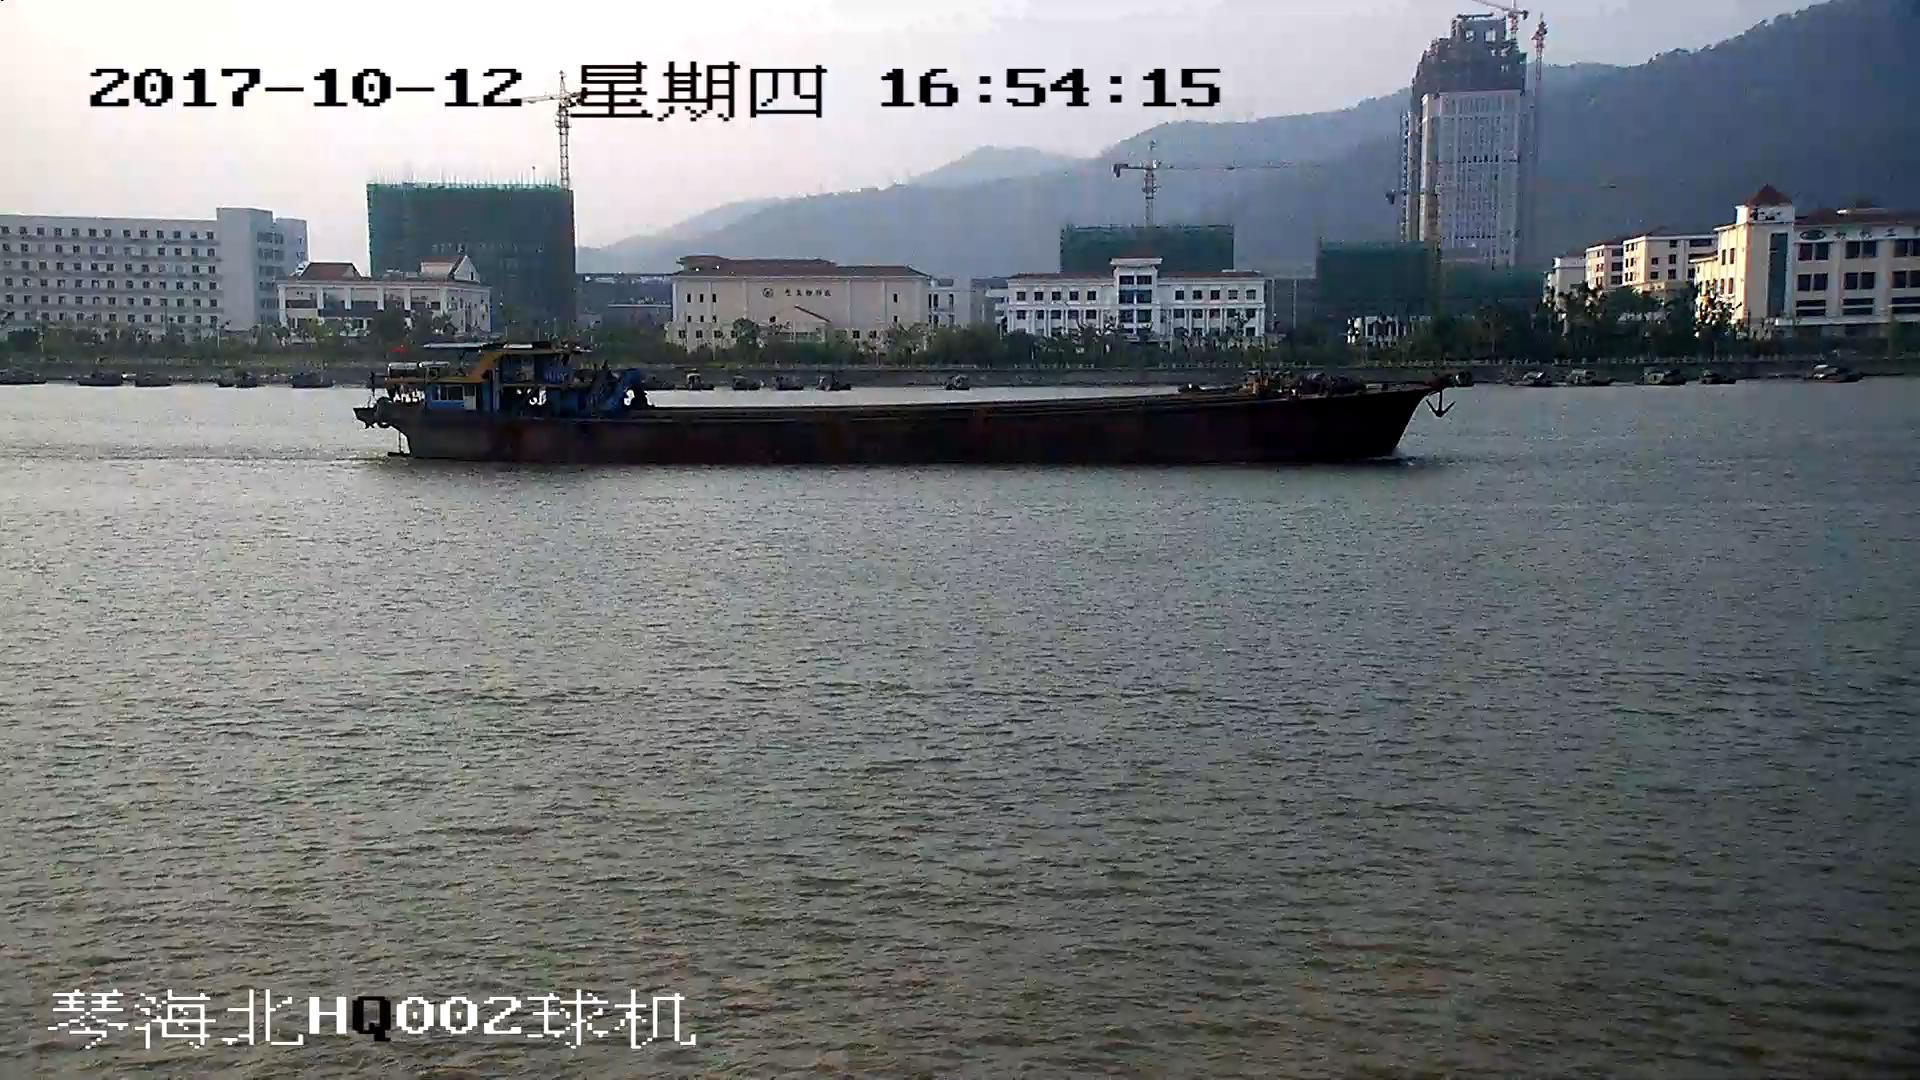bulk cargo carrier: (354, 337, 1449, 471)
